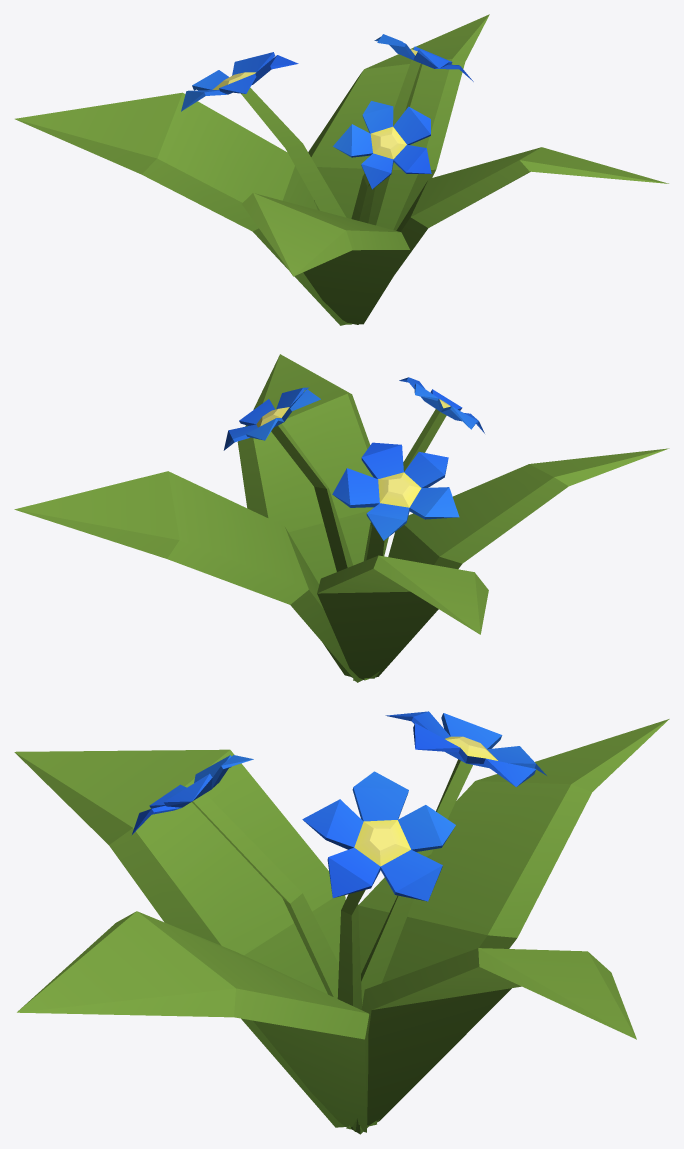
Rendered from Flower_bush_blue.fbx.
The picture shows the model from 3 angles, top to bottom: view 1: azimuth 30°, elevation 25°; view 2: azimuth 150°, elevation 25°; view 3: azimuth 270°, elevation 25°; orthographic projection. The views are drawn at different scales.
Visible parts, largest first — view 1: Flower_bush_blue; view 2: Flower_bush_blue; view 3: Flower_bush_blue.
Boxes of the visible parts, bbox=[...] form: Flower_bush_blue: bbox=[15, 14, 668, 325]; Flower_bush_blue: bbox=[14, 354, 669, 682]; Flower_bush_blue: bbox=[14, 711, 669, 1134].
Bounding box in the file's own units: 1.15 × 0.6264 × 0.9926.
